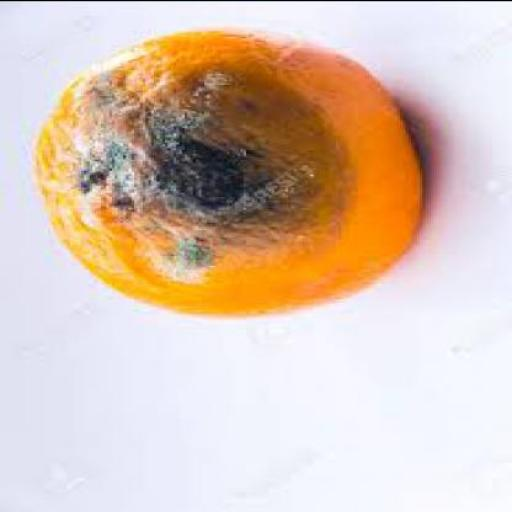biodegradable: (30, 24, 420, 317)
